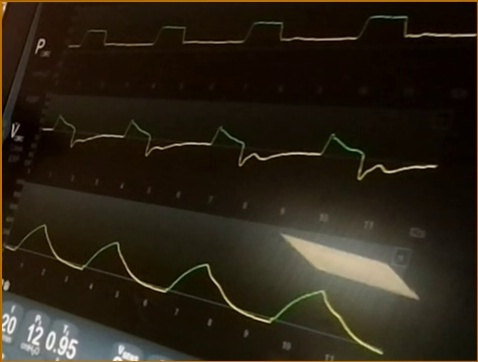Premature_cycling Flow: (42, 111, 437, 182)
Premature_cycling Volume: (7, 223, 383, 355)
